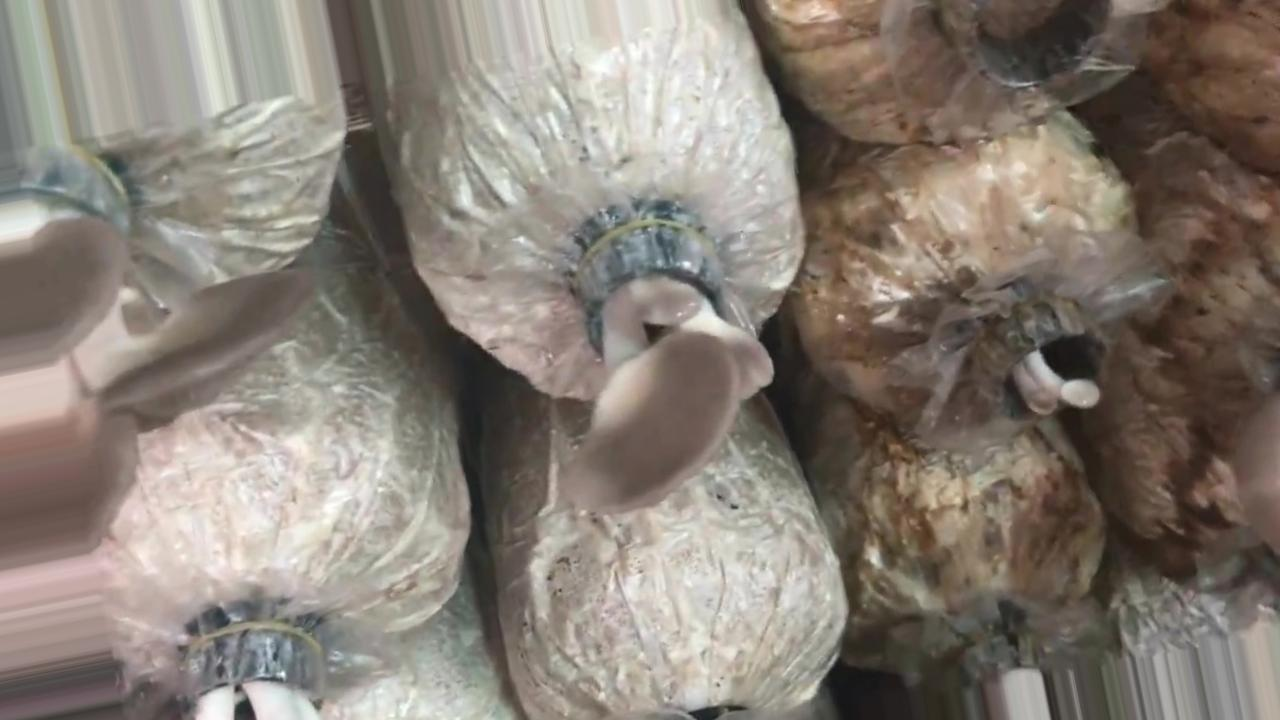nam: (1, 153, 311, 566), (567, 225, 775, 514), (993, 302, 1109, 418)
